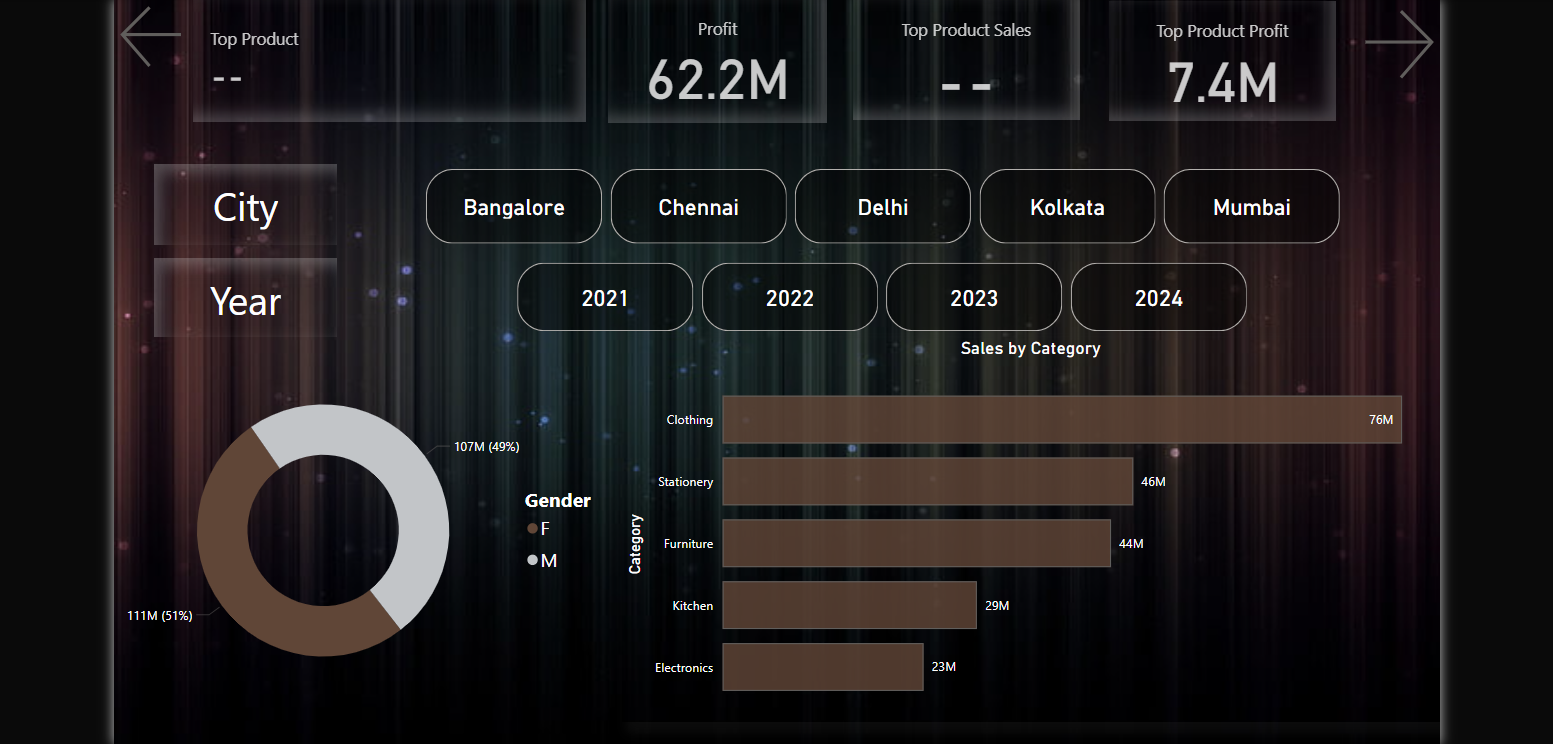

This screenshot's page, from the dashboard's own definition file:
{"tool":"powerbi","page":{"name":"Profit","canvas":[1280,720],"ordinal":3},"visuals":[{"type":"donutChart","title":"Gender","fields":{"Category":["Customers.Gender"],"Y":["Sum(Sales.Total_Sales)"]},"box":[7.1,326.4,483.2,372],"z":0},{"type":"advancedSlicerVisual","fields":{"Values":["Sales.Year"]},"box":[364.9,249.4,754,77],"z":1000},{"type":"barChart","title":"Sales by Category","fields":{"Category":["Products.Category"],"Y":["Sum(Sales.Total_Sales)"]},"box":[489.8,326.9,790.2,371.6],"z":2000},{"type":"advancedSlicerVisual","fields":{"Values":["Region.City"]},"box":[276.5,159.6,933.6,82.7],"z":3000},{"type":"cardVisual","title":"Top Product","fields":{"Data":["Customers.Top Product"]},"box":[75.5,0,380.1,118],"z":4000},{"type":"cardVisual","fields":{"Data":["Customers.Top Product Sales"]},"box":[712.7,1.4,219.5,115.5],"z":5000},{"type":"cardVisual","fields":{"Data":["Customers.Profit"]},"box":[476.1,0,212.4,119.7],"z":6000},{"type":"shape","title":"City","box":[38.5,159.6,176.7,78.4],"z":7000},{"type":"shape","box":[38.5,249.4,176.7,77],"z":8000},{"type":"cardVisual","fields":{"Data":["Customers.Top Product Profit"]},"box":[960.7,2.9,219.5,115.5],"z":9000},{"type":"actionButton","box":[1198.8,0,81.2,86.9],"z":10000},{"type":"actionButton","box":[0,0,81.2,72.7],"z":11000}]}

Visuals, with their boxes on the page's 1280x720 design canvas (x1, y1, x2, y2). These are canvas units, not pixel positions in the 1553x744 screenshot, which may show the page scaled, cropped or inside an application window:
"Gender" donutChart: {"left": 7, "top": 326, "right": 490, "bottom": 698}
advancedSlicerVisual - Sales.Year: {"left": 365, "top": 249, "right": 1119, "bottom": 326}
"Sales by Category" barChart: {"left": 490, "top": 327, "right": 1280, "bottom": 698}
advancedSlicerVisual - Region.City: {"left": 276, "top": 160, "right": 1210, "bottom": 242}
"Top Product" cardVisual: {"left": 76, "top": 0, "right": 456, "bottom": 118}
cardVisual - Customers.Top Product Sales: {"left": 713, "top": 1, "right": 932, "bottom": 117}
cardVisual - Customers.Profit: {"left": 476, "top": 0, "right": 688, "bottom": 120}
"City" shape: {"left": 38, "top": 160, "right": 215, "bottom": 238}
shape: {"left": 38, "top": 249, "right": 215, "bottom": 326}
cardVisual - Customers.Top Product Profit: {"left": 961, "top": 3, "right": 1180, "bottom": 118}
actionButton: {"left": 1199, "top": 0, "right": 1280, "bottom": 87}
actionButton: {"left": 0, "top": 0, "right": 81, "bottom": 73}
